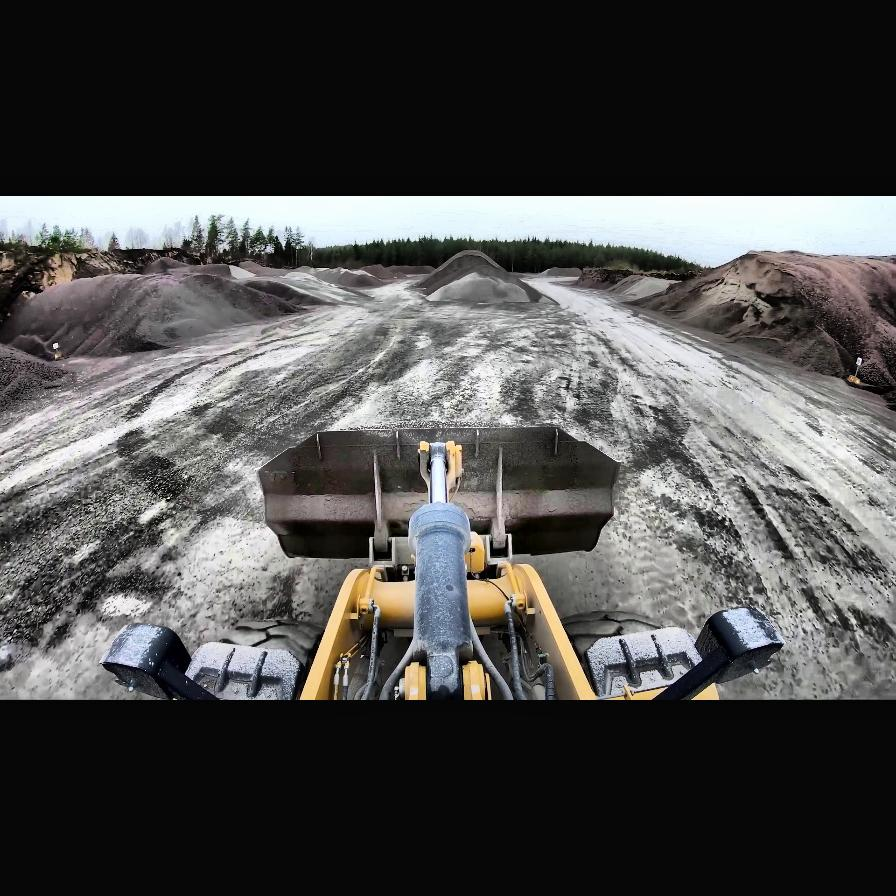anchor: (420, 439, 464, 503)
pile of gravel: (618, 246, 896, 416), (2, 257, 348, 363), (2, 243, 140, 335), (640, 250, 806, 324), (418, 250, 552, 304), (1, 346, 79, 408), (226, 276, 338, 310), (148, 258, 256, 278), (602, 273, 672, 299), (305, 266, 385, 288), (354, 264, 428, 280), (293, 265, 319, 274)
